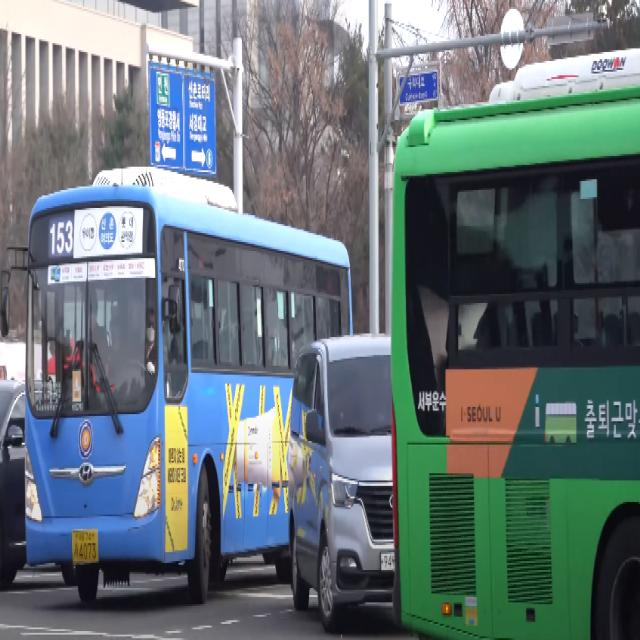bus-number: (49, 219, 73, 258)
